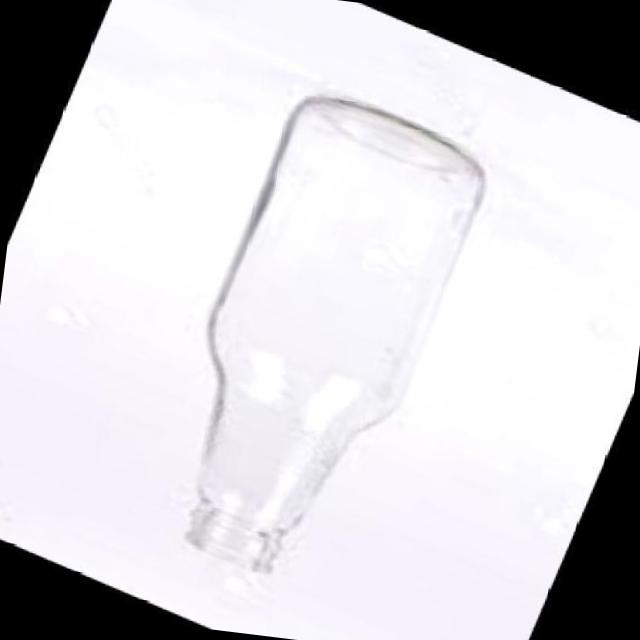ToplesKaca: (174, 86, 496, 602)
